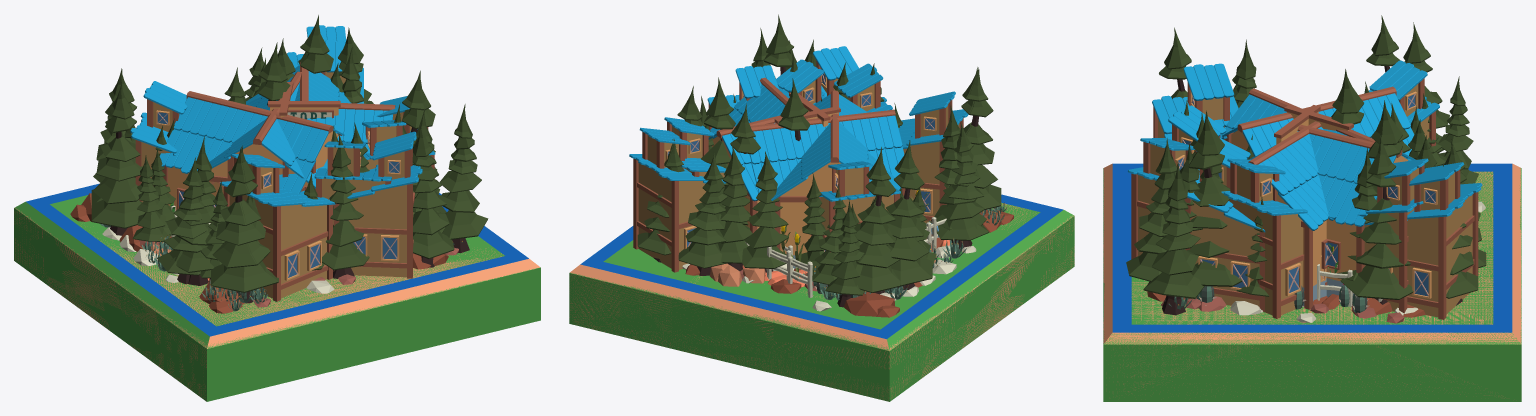
The model's file is All_Tiles.fbx.
The picture shows the model from 3 angles, left to right: view 1: azimuth 30°, elevation 25°; view 2: azimuth 150°, elevation 25°; view 3: azimuth 270°, elevation 25°; orthographic projection. The views are drawn at different scales.
Parts seen in each view (by area): view 1: PL_Store, PL_Cow, PL_School, PL_House, PL_River_I, PL_River_L, DS_School, DS_House, DS_Cow, PL_Farm, DS_Farm, PL_None_2 (+5 smaller); view 2: PL_Store, PL_River_I, PL_School, PL_House, PL_River_L, DS_School, PL_Farm, DS_Farm, DS_House, PL_Cow, PL_None_2, DS_Cow (+2 smaller); view 3: PL_Store, PL_School, PL_River_I, DS_Cow, PL_House, PL_River_L, PL_Farm, DS_School, PL_Cow, DS_Farm, DS_Store, DS_House (+4 smaller).
Boxes of the visible parts, bbox=[...] form: PL_Store: bbox=[14, 62, 540, 401]; PL_Cow: bbox=[14, 131, 528, 347]; PL_School: bbox=[42, 15, 361, 319]; PL_House: bbox=[61, 39, 459, 347]; PL_River_I: bbox=[41, 27, 540, 401]; PL_River_L: bbox=[56, 47, 540, 400]; DS_School: bbox=[15, 71, 515, 348]; DS_House: bbox=[54, 81, 458, 325]; DS_Cow: bbox=[100, 120, 539, 348]; PL_Farm: bbox=[91, 25, 369, 282]; DS_Farm: bbox=[14, 96, 503, 397]; PL_None_2: bbox=[124, 38, 496, 320]; PL_Store: bbox=[569, 40, 1074, 401]; PL_River_I: bbox=[569, 54, 1060, 401]; PL_School: bbox=[574, 77, 1057, 346]; PL_House: bbox=[602, 14, 1046, 350]; PL_River_L: bbox=[569, 28, 1052, 401]; DS_School: bbox=[570, 109, 1072, 350]; PL_Farm: bbox=[629, 63, 975, 294]; DS_Farm: bbox=[569, 65, 1074, 399]; DS_House: bbox=[743, 63, 1050, 348]; PL_Cow: bbox=[581, 46, 1073, 349]; PL_None_2: bbox=[705, 50, 1026, 272]; DS_Cow: bbox=[571, 59, 1017, 349]; PL_Store: bbox=[1103, 105, 1521, 401]; PL_School: bbox=[1105, 15, 1520, 343]; PL_River_I: bbox=[1103, 27, 1521, 401]; DS_Cow: bbox=[1103, 138, 1521, 344]; PL_House: bbox=[1119, 63, 1511, 321]; PL_River_L: bbox=[1103, 76, 1520, 401]; PL_Farm: bbox=[1184, 22, 1482, 319]; DS_School: bbox=[1104, 88, 1521, 343]; PL_Cow: bbox=[1104, 28, 1519, 344]; DS_Farm: bbox=[1103, 158, 1521, 342]; DS_Store: bbox=[1129, 105, 1512, 331]; DS_House: bbox=[1130, 60, 1511, 332].
Bounding box in the file's own units: 10 × 6.7 × 10.
